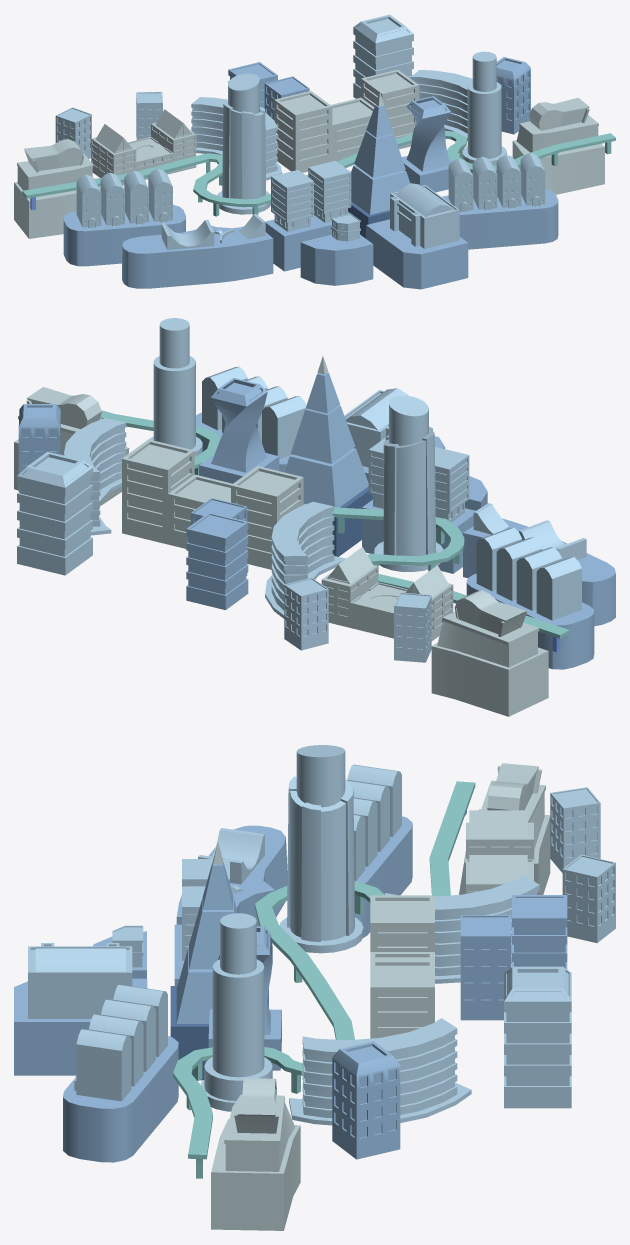
File: Neighborhood_RogCity_02.fbx
3 views of the same model, one above another, from view 1: azimuth 30°, elevation 25°; view 2: azimuth 150°, elevation 25°; view 3: azimuth 270°, elevation 25° (orthographic). The views are drawn at different scales.
Parts seen in each view (by area): view 1: pCube499, pCube495, pCube498, polySurface310, pCube496, pCube492, pCylinder159, pCube490, pCube497, pCube500, pCube488, pCylinder158 (+14 smaller); view 2: pCube495, pCube490, polySurface310, pCylinder159, pCube484, pCube497, pCube488, pCube481, pCylinder158, pCube489, pCube466, pCube498 (+13 smaller); view 3: pCube499, pCylinder159, pCube496, pCube492, pCube500, pCube484, pCylinder158, pCube480, pCube495, pCube479, polySurface310, pCube497 (+12 smaller).
Boxes of the visible parts, x1,y1,x2,y2 form: pCube499: (442, 153, 558, 249); pCube495: (274, 69, 419, 172); pCube498: (122, 214, 273, 288); polySurface310: (63, 169, 185, 266); pCube496: (366, 183, 468, 289); pCube492: (512, 97, 604, 194); pCylinder159: (217, 73, 270, 214); pCube490: (14, 139, 100, 238); pCube497: (348, 92, 409, 238); pCube500: (22, 130, 615, 216); pCube488: (91, 109, 196, 185); pCylinder158: (462, 51, 506, 174); pCube495: (122, 439, 303, 569); pCube490: (431, 590, 548, 716); polySurface310: (466, 527, 594, 669); pCylinder159: (374, 395, 443, 571); pCube484: (17, 451, 92, 575); pCube497: (284, 356, 372, 556); pCube488: (321, 547, 453, 641); pCube481: (186, 512, 248, 610); pCylinder158: (149, 318, 202, 456); pCube489: (265, 501, 345, 618); pCube466: (199, 378, 279, 483); pCube498: (463, 503, 615, 626); pCube499: (63, 984, 178, 1162); pCylinder159: (279, 745, 363, 953); pCube496: (14, 943, 147, 1075); pCube492: (211, 1078, 300, 1230); pCube500: (173, 781, 475, 1178); pCube484: (504, 966, 571, 1108); pCylinder158: (200, 913, 276, 1111); pCube480: (289, 1018, 471, 1125); pCube495: (370, 895, 434, 1038); pCube479: (332, 1041, 400, 1159); polySurface310: (347, 764, 412, 938); pCube497: (170, 842, 268, 1080).
Bounding box in the file's own units: 9911 × 2976 × 6746.
